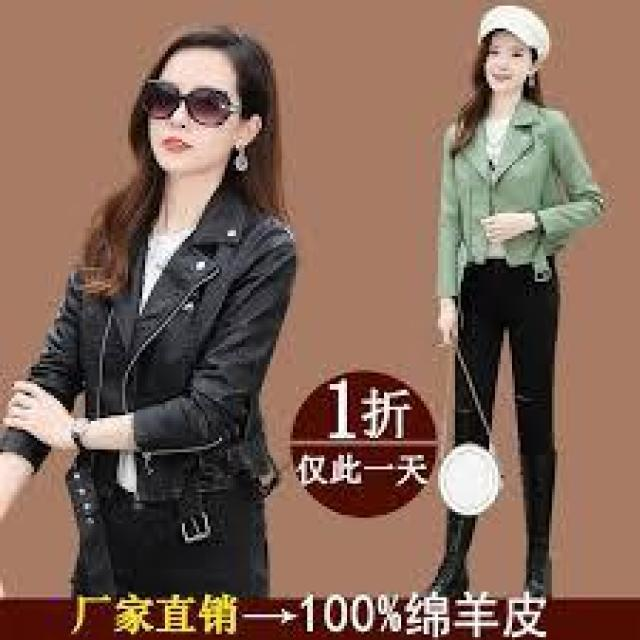jacket: (2, 169, 314, 516), (415, 95, 626, 286)
pants: (424, 259, 597, 549)
